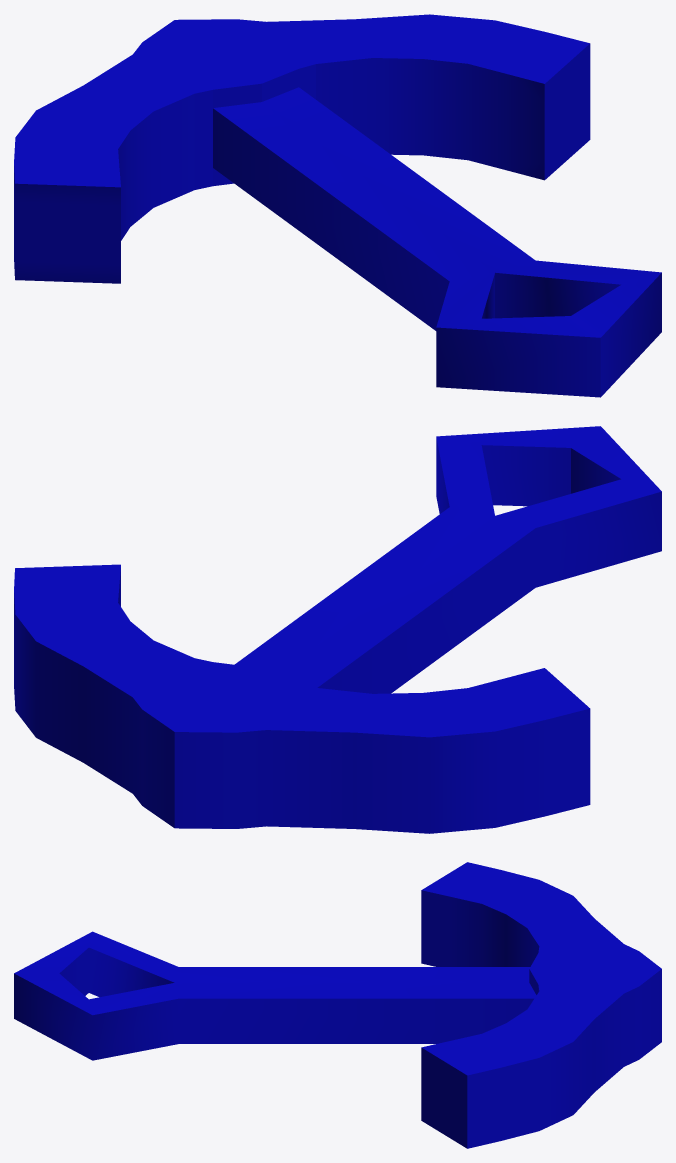
The model's file is anchor.obj.
3 renders of one model, top to bottom at view 1: azimuth 30°, elevation 25°; view 2: azimuth 150°, elevation 25°; view 3: azimuth 270°, elevation 25°, orthographic. The views are drawn at different scales.
Visible parts, largest first — view 1: Cube.002; view 2: Cube.002; view 3: Cube.002.
Part boxes in pixels (left/top/right/bottom): Cube.002: left=14, top=14, right=661, bottom=397; Cube.002: left=14, top=426, right=661, bottom=833; Cube.002: left=14, top=862, right=661, bottom=1148.
Bounding box in the file's own units: 12.49 × 2 × 16.02.
